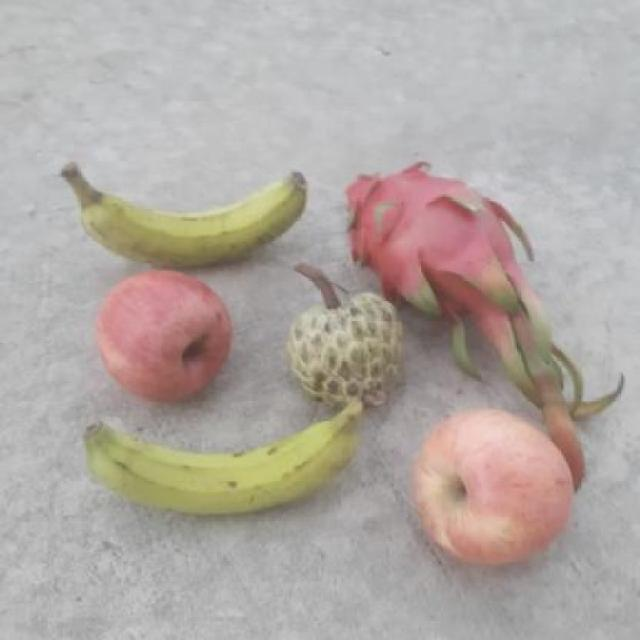apple: (408, 404, 580, 568), (87, 266, 235, 405)
banana: (70, 395, 368, 523), (58, 163, 310, 269)
dragon fruit: (334, 149, 537, 322)
sugar apple: (284, 283, 414, 406)
